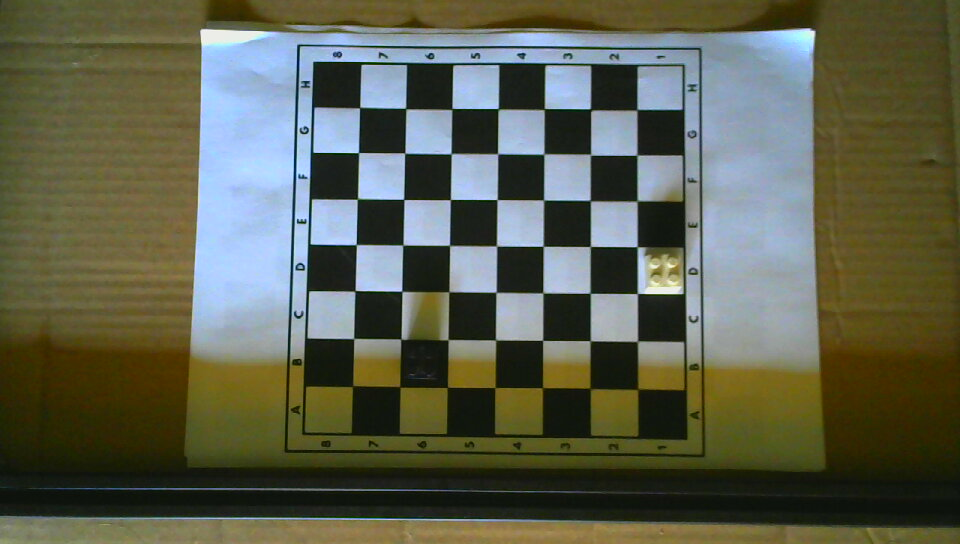bp: (402, 342, 442, 383)
wp: (643, 251, 684, 292)
